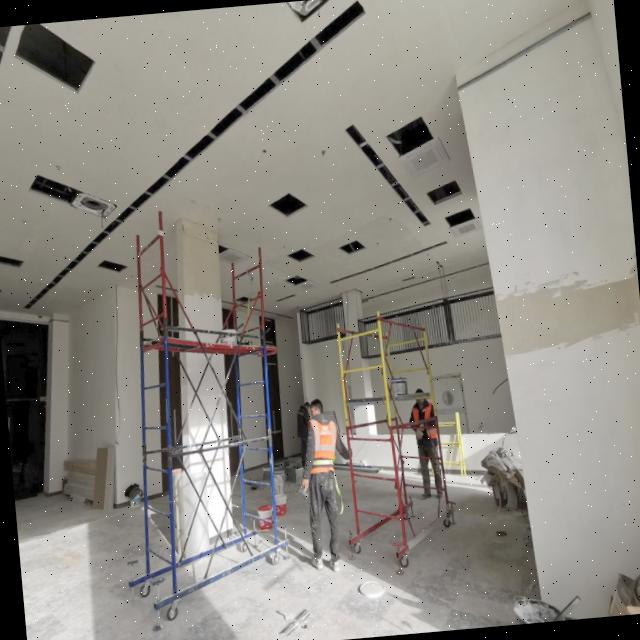NoHelmet: (309, 398, 326, 419), (415, 388, 427, 404), (304, 401, 312, 412)
